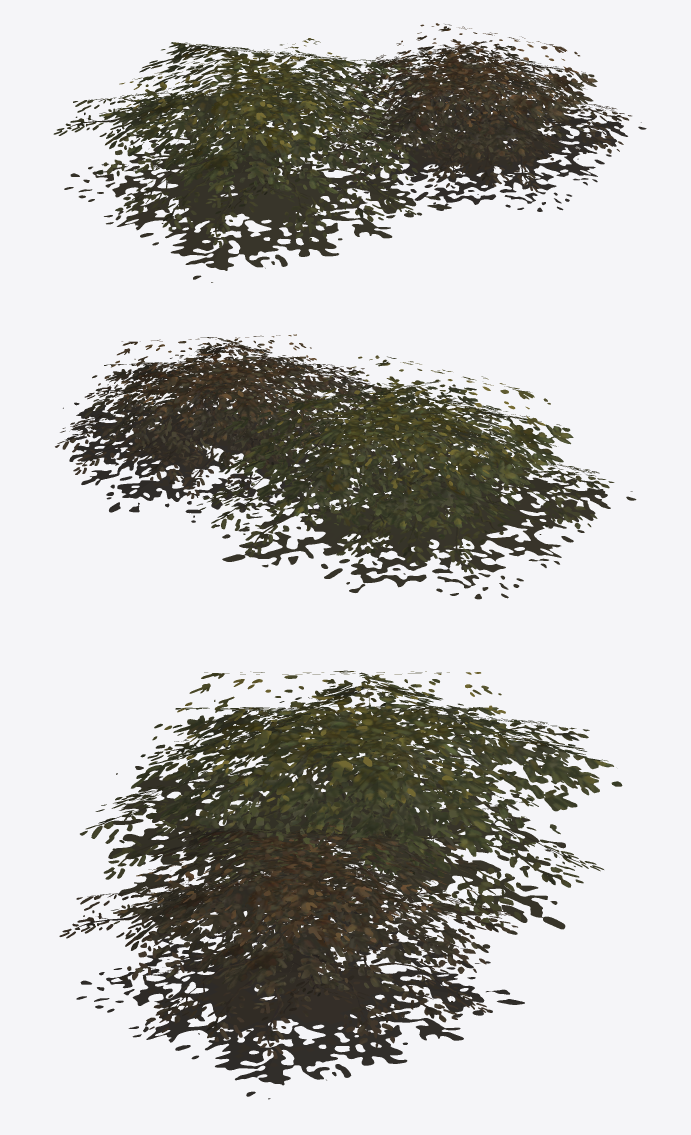
Rendered from plants_bushes08.fbx.
The picture shows the model from 3 angles, top to bottom: view 1: azimuth 30°, elevation 25°; view 2: azimuth 150°, elevation 25°; view 3: azimuth 270°, elevation 25°; orthographic projection. The views are drawn at different scales.
Visible parts, largest first — view 1: obj1.047; view 2: obj1.047; view 3: obj1.047.
Part boxes in pixels (x1,y1,x2,y2): obj1.047: (53, 23, 646, 282); obj1.047: (55, 334, 636, 599); obj1.047: (59, 670, 622, 1099).
Size of the model in its own units: 7.69 by 1.57 by 5.71.
